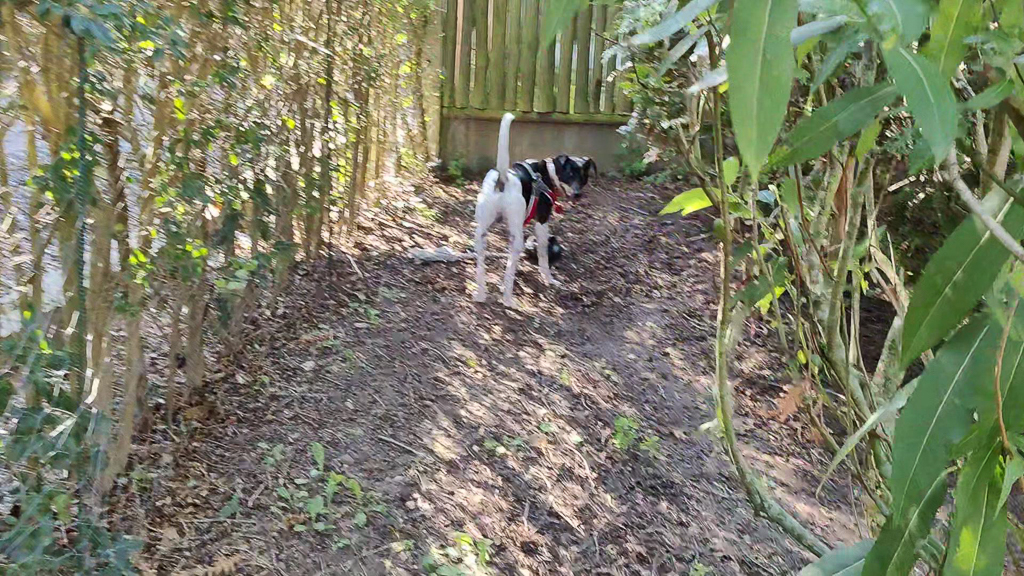Dog: (451, 103, 606, 326)
